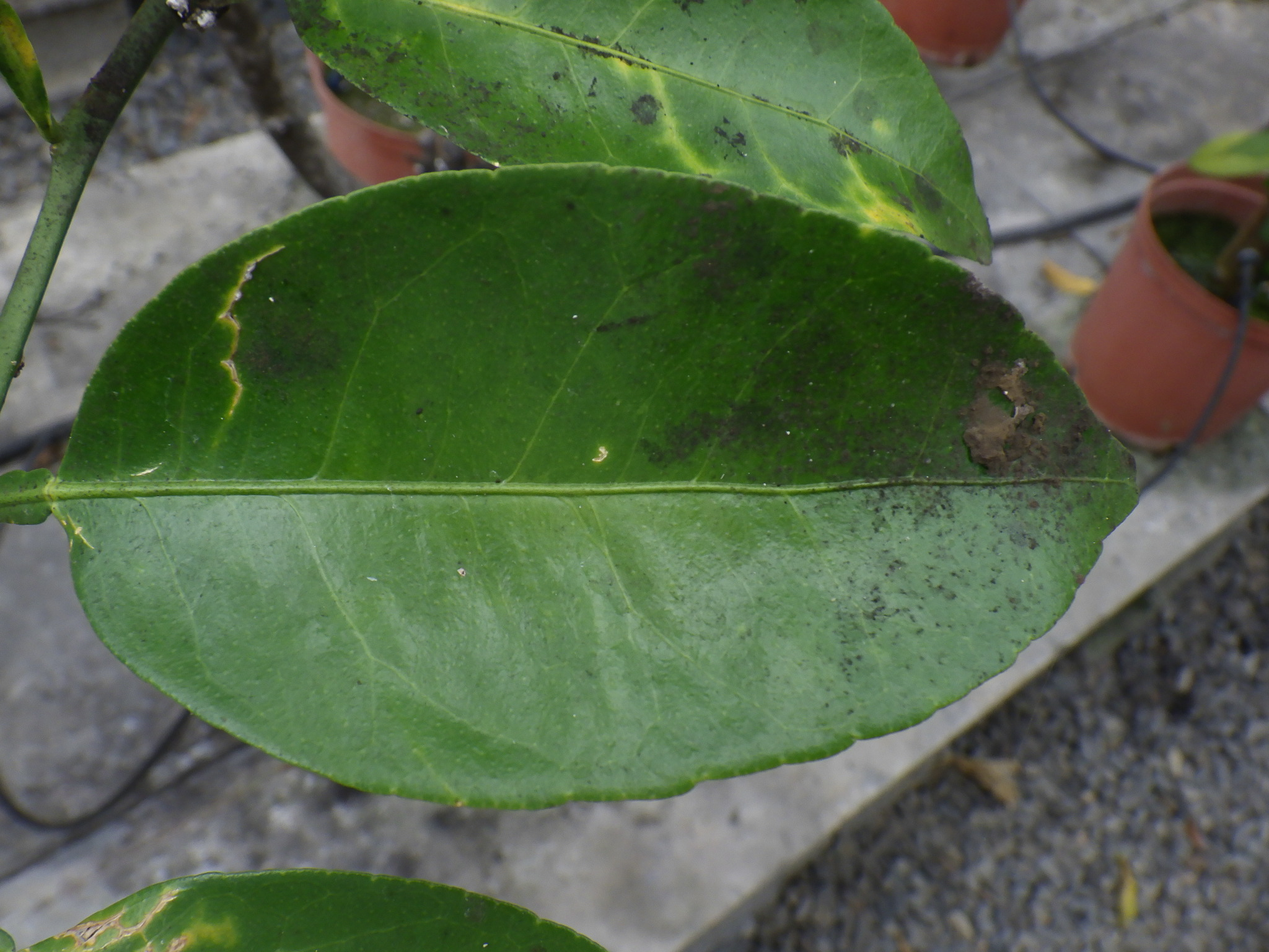Sooty_Mold: (3, 167, 1137, 808)
